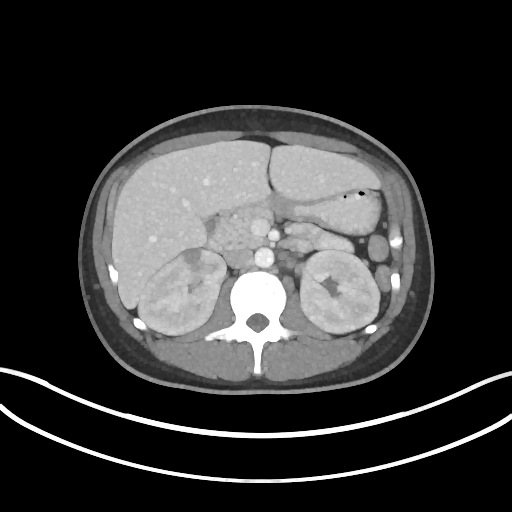Lesion: (176, 246, 205, 267)
